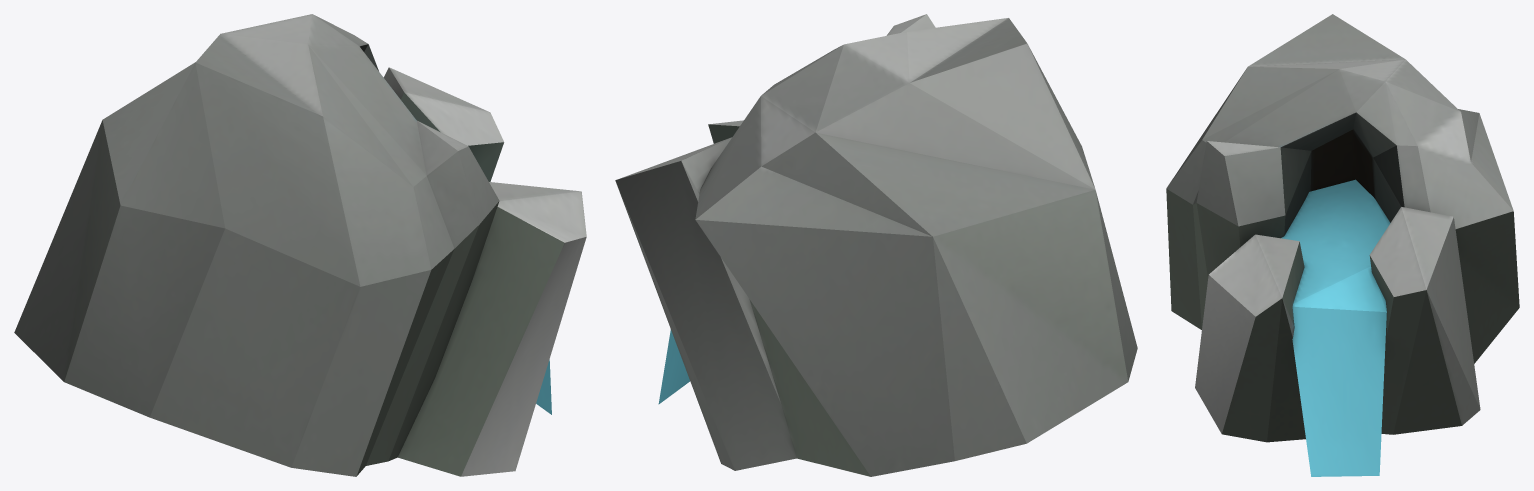
3 renders of one model, left to right at view 1: azimuth 30°, elevation 25°; view 2: azimuth 150°, elevation 25°; view 3: azimuth 270°, elevation 25°, orthographic. The views are drawn at different scales.
Visible parts, largest first — view 1: Object_2.001; view 2: Object_2.001; view 3: Object_2.001.
Boxes of the visible parts, left/top/right/bottom form: Object_2.001: left=14, top=14, right=586, bottom=476; Object_2.001: left=615, top=14, right=1137, bottom=476; Object_2.001: left=1166, top=14, right=1519, bottom=476.
Size of the model in its own units: 1.28 by 1.11 by 1.07.
Materials: 1 (1 with a texture image).
